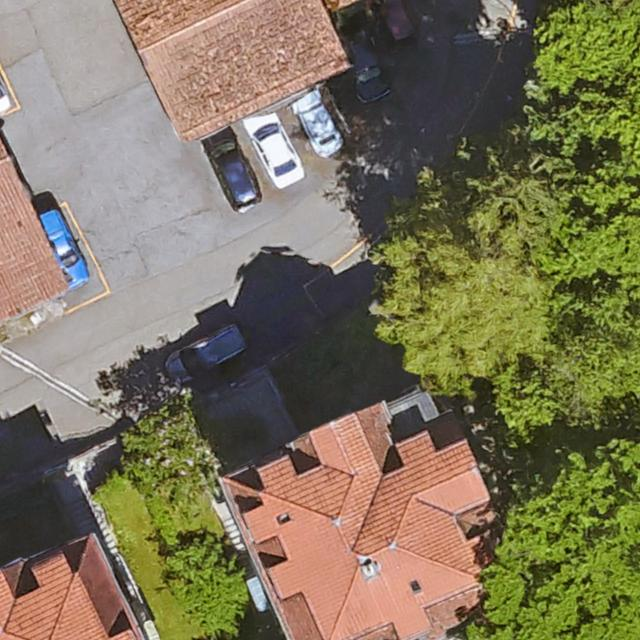tree: (376, 152, 571, 376), (485, 440, 639, 640), (507, 94, 640, 295), (539, 288, 640, 435), (119, 401, 232, 517), (528, 0, 640, 98), (165, 540, 251, 634), (488, 374, 546, 437)
